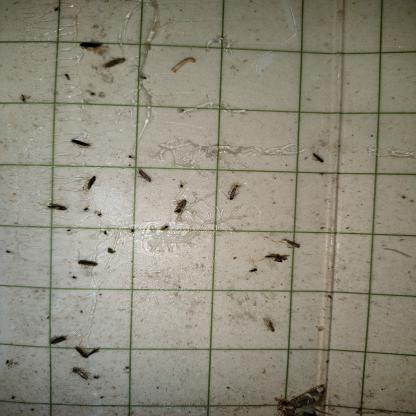prays_oleae: (77, 30, 107, 57), (66, 135, 96, 156), (71, 360, 92, 390), (44, 193, 71, 216), (282, 229, 304, 256), (310, 141, 327, 175), (170, 198, 192, 221), (102, 52, 128, 71), (225, 179, 244, 205), (259, 314, 277, 340), (136, 165, 154, 189), (83, 170, 98, 193), (17, 88, 30, 113), (53, 6, 60, 15)
